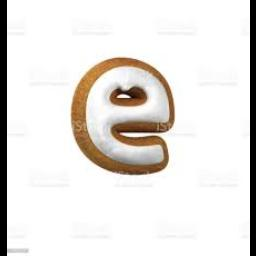e: (58, 39, 182, 183)
